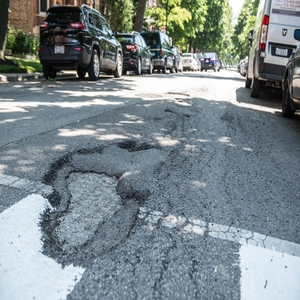pothole: (38, 139, 174, 264)
